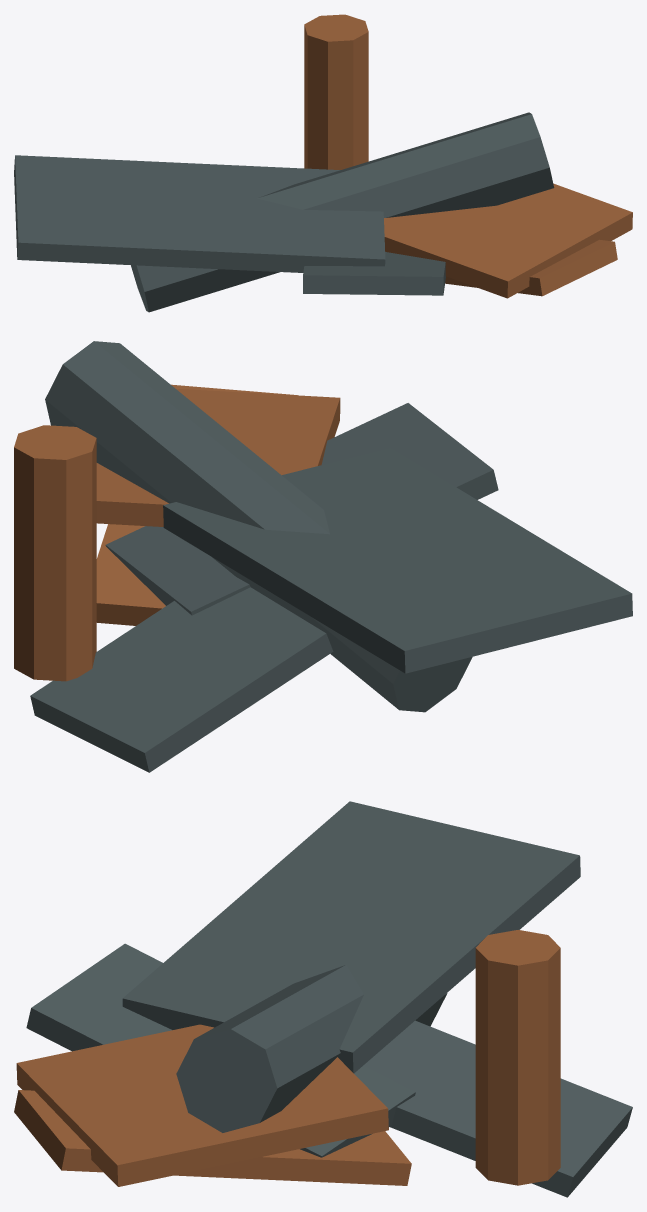
File: ScrapPile.glb
3 views of the same model, one above another, from view 1: azimuth 30°, elevation 25°; view 2: azimuth 150°, elevation 25°; view 3: azimuth 270°, elevation 25° (orthographic). The views are drawn at different scales.
Visible parts, largest first — view 1: ScrapPile_metal, ScrapPile_paint; view 2: ScrapPile_metal, ScrapPile_paint; view 3: ScrapPile_metal, ScrapPile_paint.
Part boxes in pixels (x1,y1,x2,y2): ScrapPile_metal: [14, 112, 554, 312]; ScrapPile_paint: [304, 14, 632, 298]; ScrapPile_metal: [30, 341, 632, 772]; ScrapPile_paint: [14, 384, 340, 681]; ScrapPile_metal: [26, 801, 632, 1197]; ScrapPile_paint: [14, 930, 560, 1186].
Bounding box in the file's own units: 6.35 × 2.29 × 5.1.
2 materials, 2 textured.
